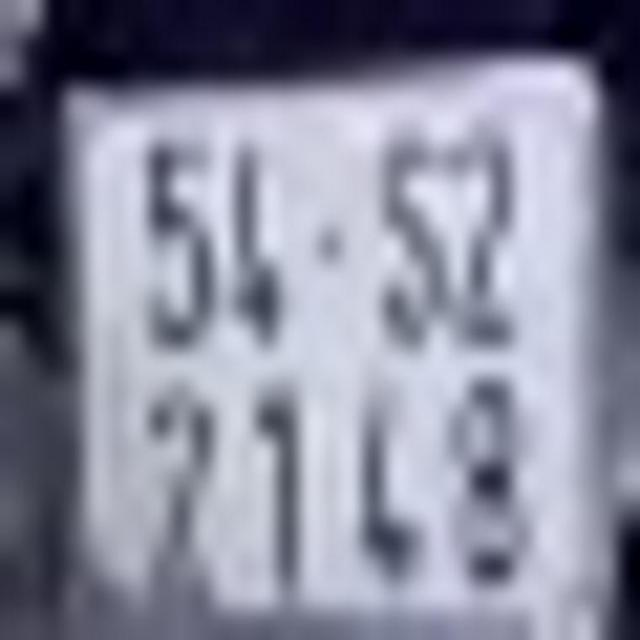1: (250, 388, 308, 588)
2: (143, 388, 233, 592), (454, 133, 526, 344)
4: (356, 401, 424, 588), (230, 139, 284, 351)
5: (134, 131, 220, 343)
8: (453, 383, 523, 580)
S: (378, 136, 449, 344)
